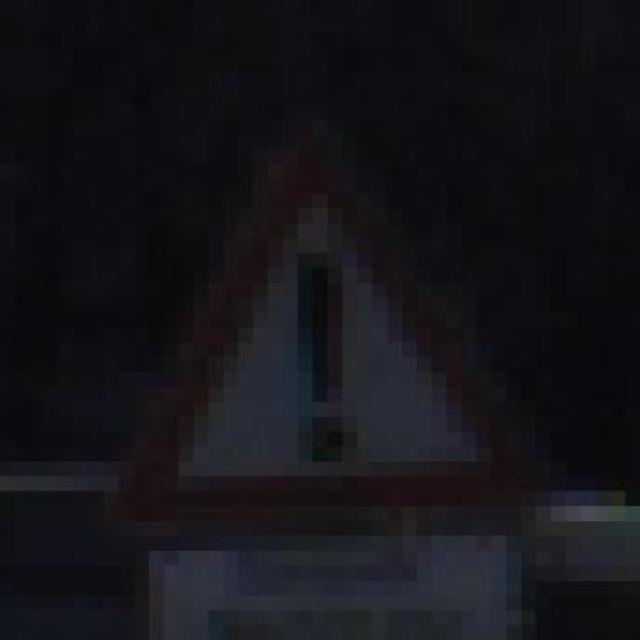Attention Please-: (90, 75, 536, 536)
